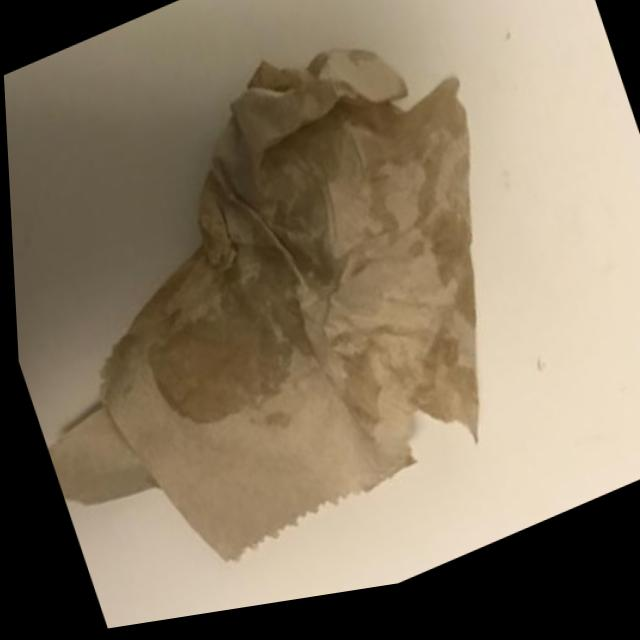trash: (0, 0, 630, 640)
